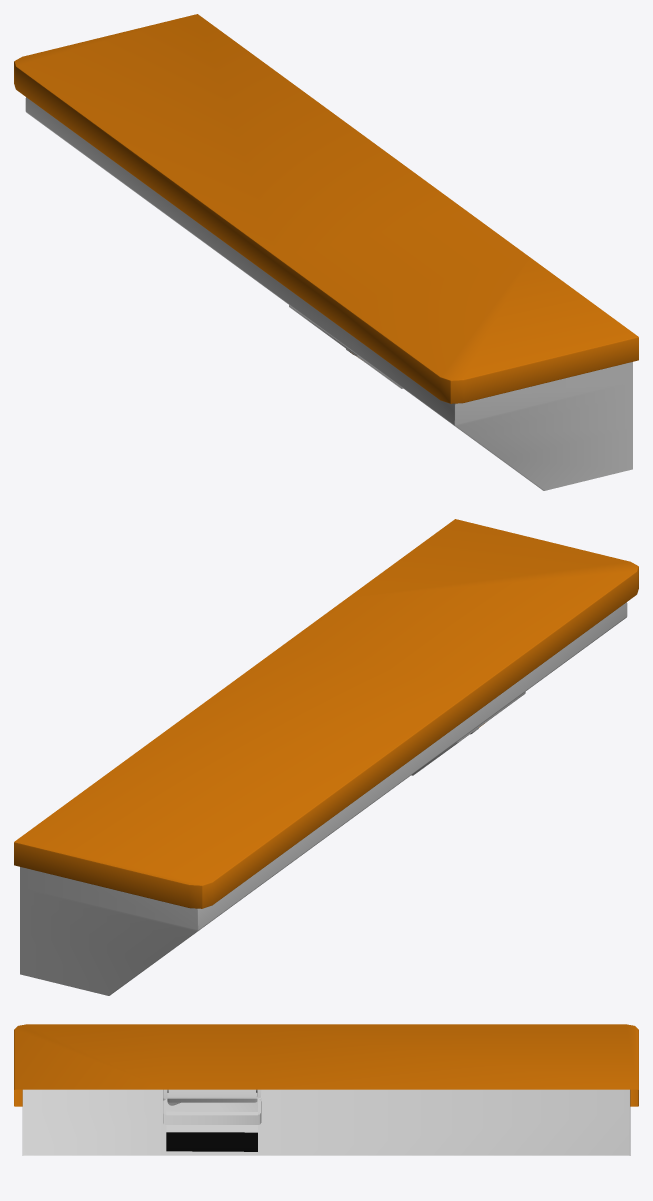
The model's file is Counter.fbx.
3 views of the same model, one above another, from view 1: azimuth 30°, elevation 25°; view 2: azimuth 150°, elevation 25°; view 3: azimuth 270°, elevation 25° (orthographic). The views are drawn at different scales.
Visible parts, largest first — view 1: Counter; view 2: Counter; view 3: Counter, Counter_Drawer.
Boxes of the visible parts, x1=… form: Counter: x1=14, y1=14, x2=638, y2=490; Counter: x1=14, y1=519, x2=638, y2=995; Counter: x1=14, y1=1024, x2=638, y2=1155; Counter_Drawer: x1=163, y1=1089, x2=261, y2=1124.
Bounding box in the file's own units: 1.86 × 7.5 × 1.28.
